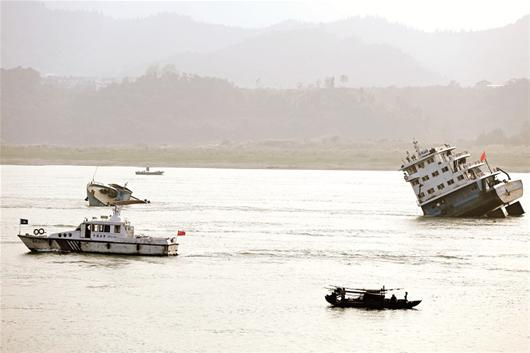otherboat: (84, 100, 526, 216), (13, 201, 187, 263), (323, 277, 423, 314)
